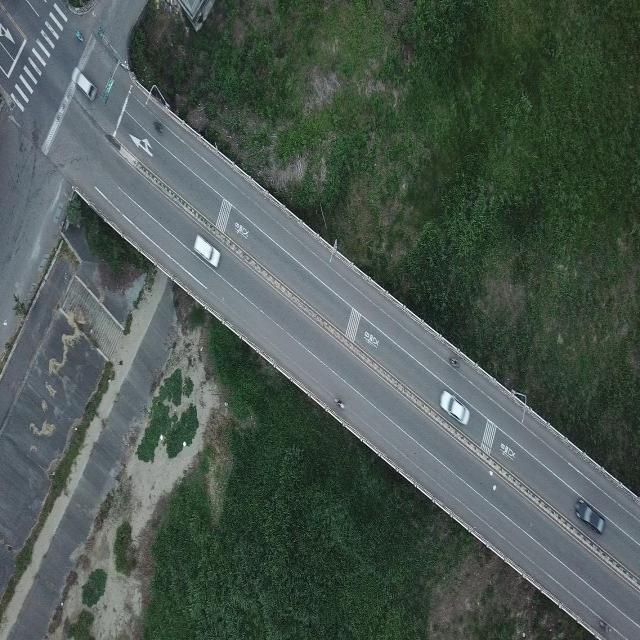bike: (596, 613, 613, 635), (331, 393, 350, 410)
car: (191, 228, 224, 272), (442, 382, 472, 423), (575, 497, 605, 534), (71, 66, 97, 102)
